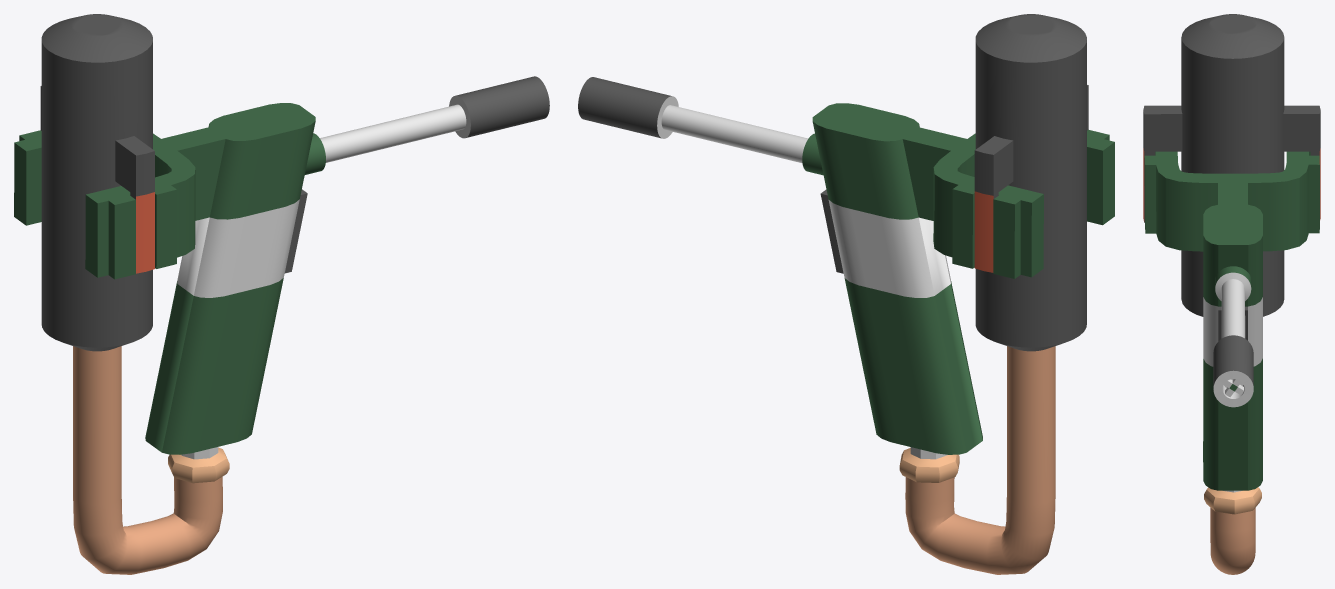
Rendered from SprayGun01.fbx.
The picture shows the model from 3 angles, left to right: view 1: azimuth 30°, elevation 25°; view 2: azimuth 150°, elevation 25°; view 3: azimuth 270°, elevation 25°; orthographic projection. The views are drawn at different scales.
Visible parts, largest first — view 1: SprayGun.001, Bottle; view 2: SprayGun.001, Bottle; view 3: SprayGun.001, Bottle.
Boxes of the visible parts, x1,y1,x2,y2 form: SprayGun.001: [14, 76, 549, 483]; Bottle: [40, 14, 222, 574]; SprayGun.001: [578, 77, 1114, 482]; Bottle: [905, 14, 1088, 574]; SprayGun.001: [1144, 151, 1319, 514]; Bottle: [1143, 14, 1320, 574].
Bounding box in the file's own units: 479 × 519 × 163.
